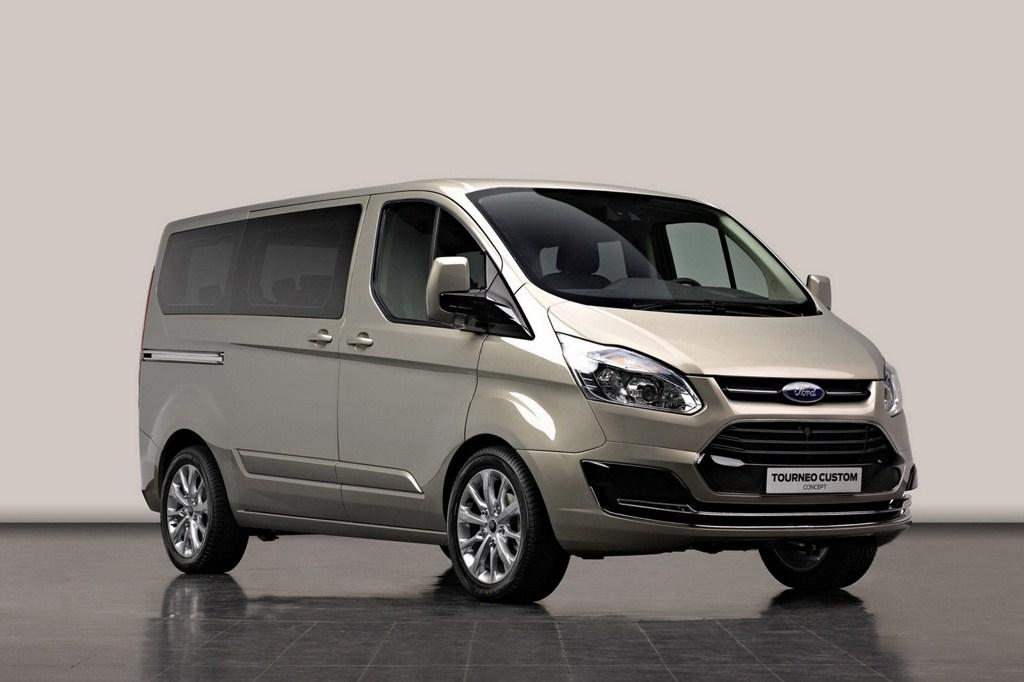van: (137, 178, 918, 608)
